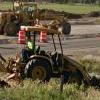Tractor: (15, 21, 89, 96)
